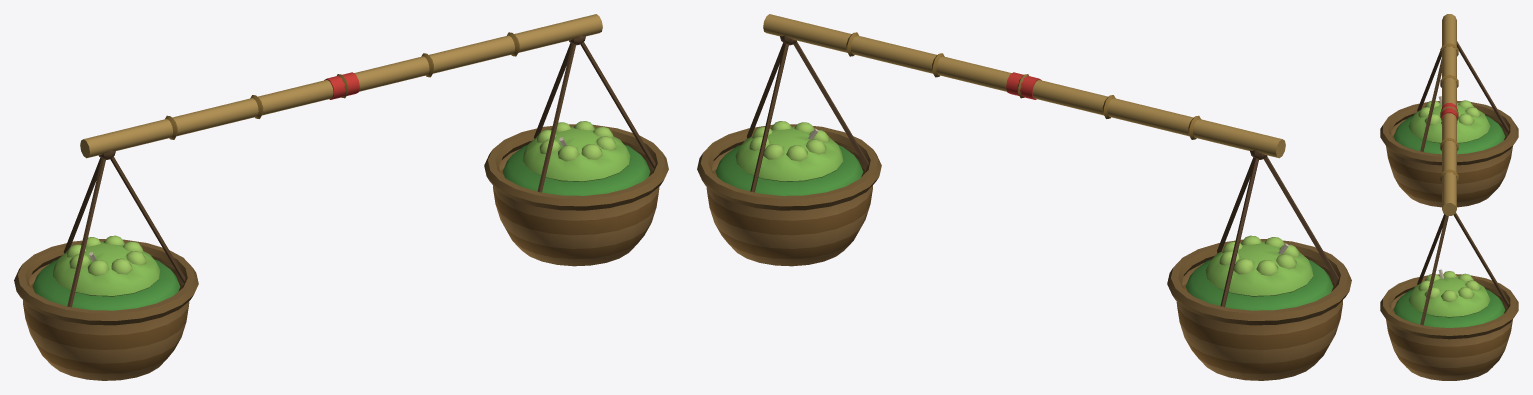
The model's file is pp-pole-cothu.glb.
The picture shows the model from 3 angles, left to right: view 1: azimuth 30°, elevation 25°; view 2: azimuth 150°, elevation 25°; view 3: azimuth 270°, elevation 25°; orthographic projection. The views are drawn at different scales.
Bounding box in the file's own units: 2.95 × 1 × 0.7424.
